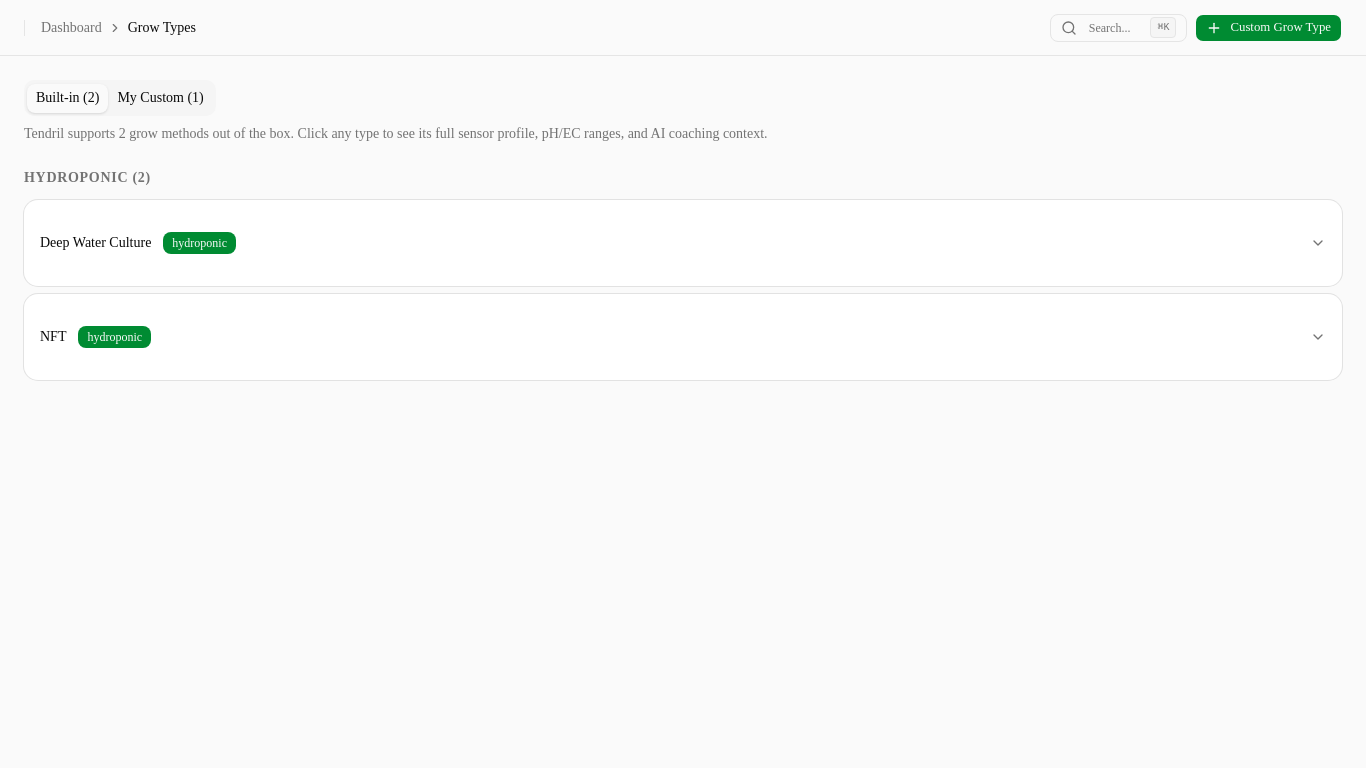
GrowTypesPage › opens create modal
This screenshot has width=1366, height=768.
Step 1. Click the button "Custom Grow Type" → (1269, 28), box [1196, 14, 1342, 42]
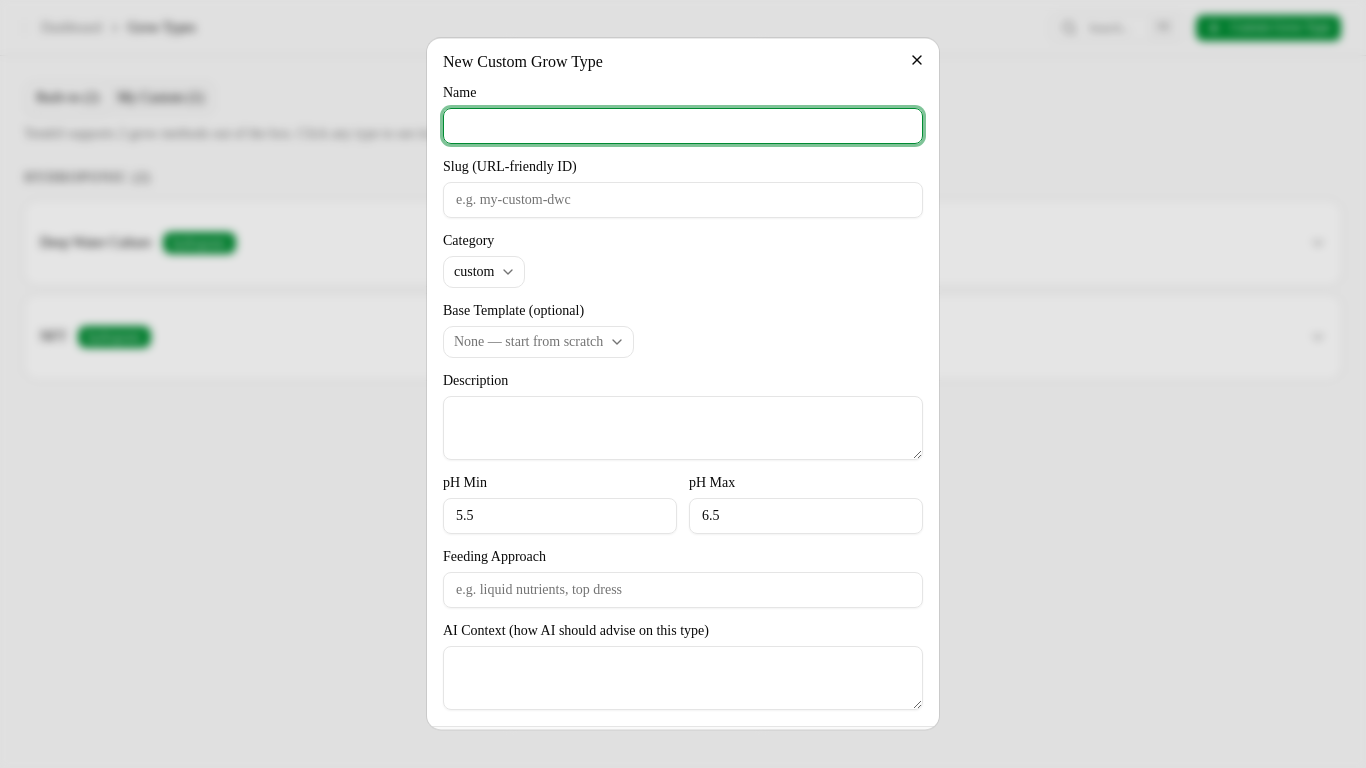
Now the heading "New Custom Grow Type" is shown, box [443, 53, 603, 70]
